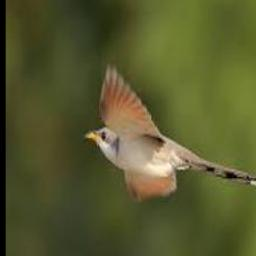Cuckoo: (84, 66, 256, 196)
